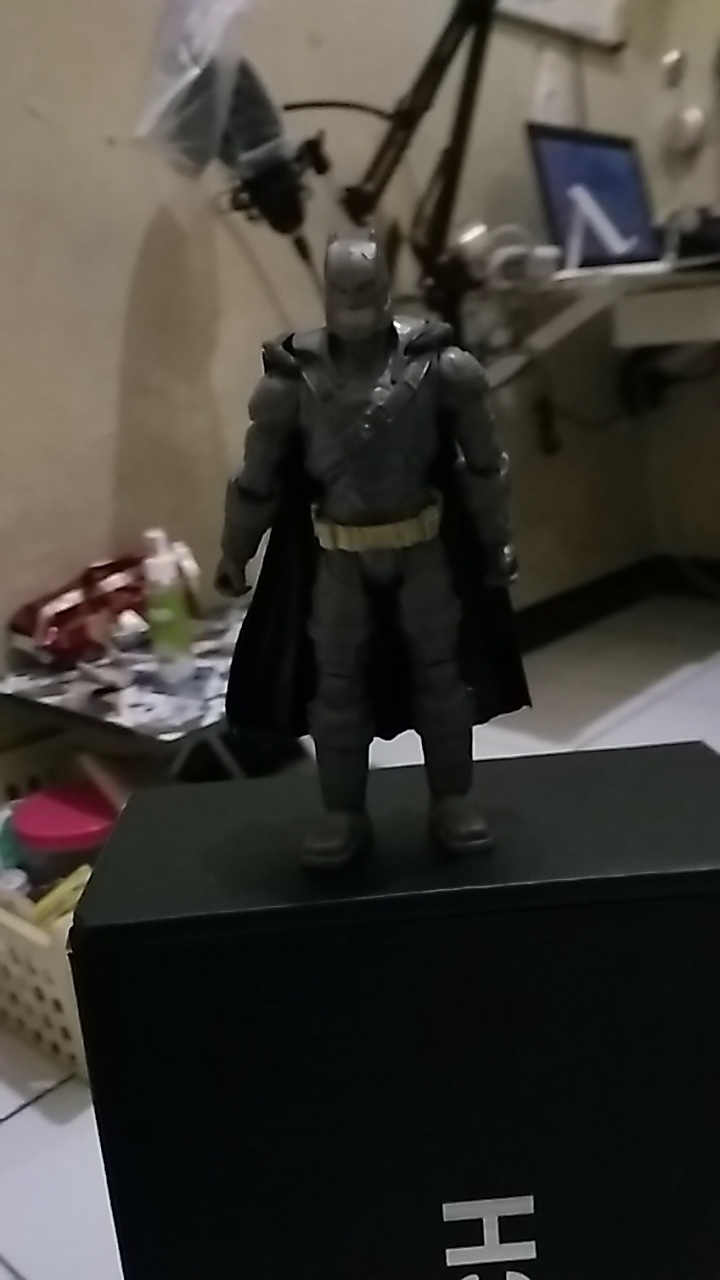batman: (219, 239, 523, 856)
